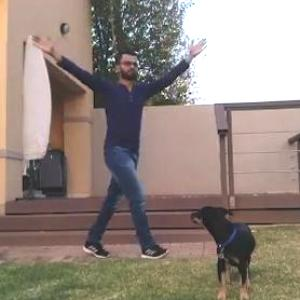takeoff: (31, 29, 213, 261)
